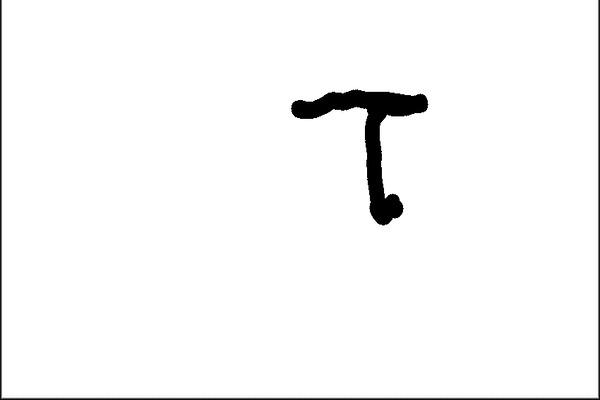T: (289, 82, 435, 228)
